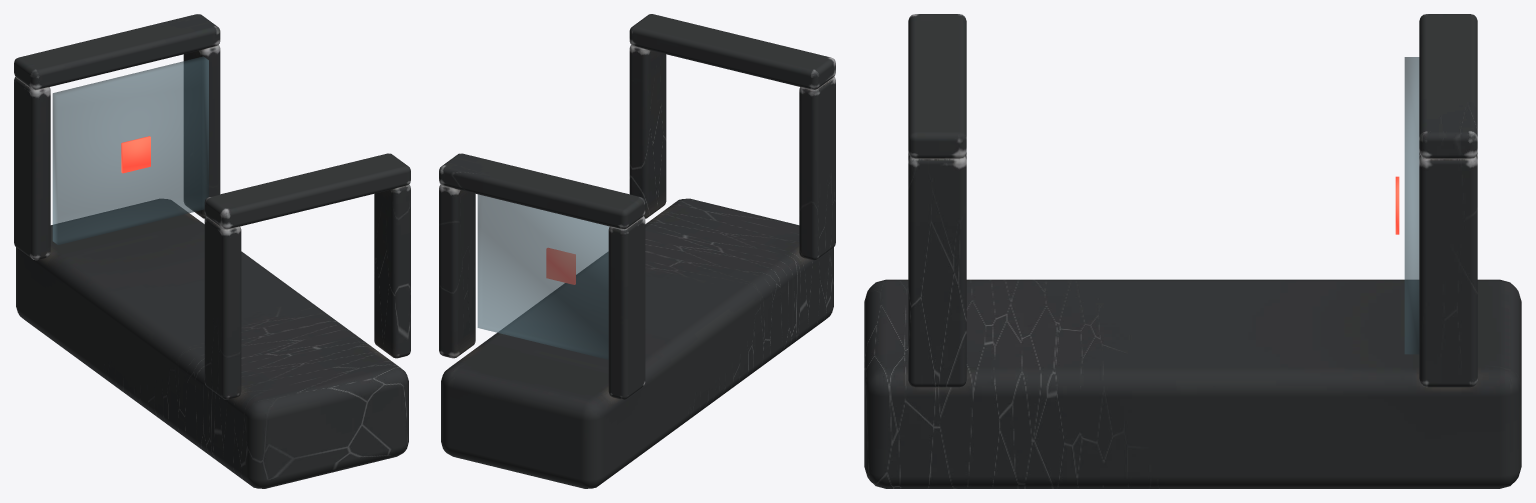
Rendered from holo.gltf.
3 renders of one model, left to right at view 1: azimuth 30°, elevation 25°; view 2: azimuth 150°, elevation 25°; view 3: azimuth 270°, elevation 25°, orthographic. The views are drawn at different scales.
Visible parts, largest first — view 1: Frame, Window, Ring; view 2: Frame, Window, Ring; view 3: Frame, Window.
Part boxes in pixels (box(x1,y1,x2,y2)): Frame: box(14, 14, 410, 488); Window: box(52, 56, 208, 244); Ring: box(121, 136, 150, 173); Frame: box(439, 14, 835, 488); Window: box(477, 194, 609, 359); Ring: box(546, 248, 575, 284); Frame: box(864, 14, 1521, 488); Window: box(1404, 57, 1419, 354).
Size of the model in its own units: 0.04 by 0.056 by 0.09.
3 materials, 1 textured.
